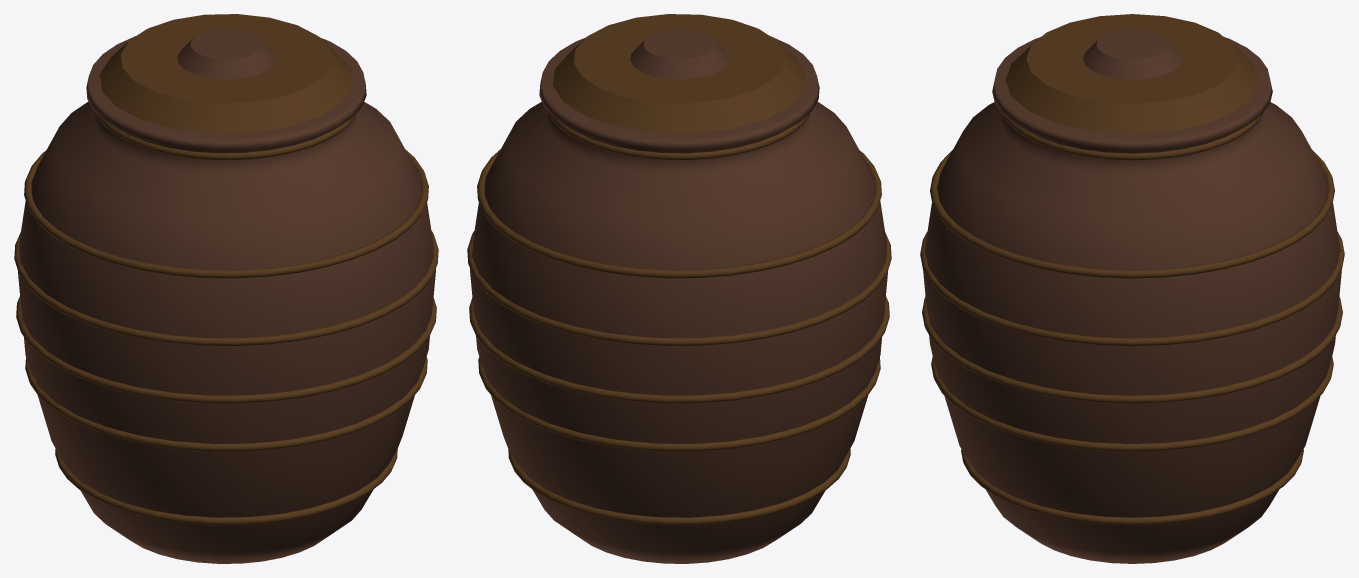
The model's file is mia-jar.glb.
3 renders of one model, left to right at view 1: azimuth 30°, elevation 25°; view 2: azimuth 150°, elevation 25°; view 3: azimuth 270°, elevation 25°, orthographic.
Visible parts, largest first — view 1: Body_glaze, Body_wood; view 2: Body_glaze, Body_wood; view 3: Body_glaze, Body_wood.
Part boxes in pixels (x1=…): Body_glaze: x1=18, y1=29, x2=435, y2=563; Body_wood: x1=14, y1=14, x2=438, y2=525; Body_glaze: x1=470, y1=29, x2=887, y2=563; Body_wood: x1=467, y1=14, x2=891, y2=525; Body_glaze: x1=923, y1=29, x2=1341, y2=563; Body_wood: x1=920, y1=14, x2=1344, y2=525.
Size of the model in its own units: 0.696 by 0.8545 by 0.696.
